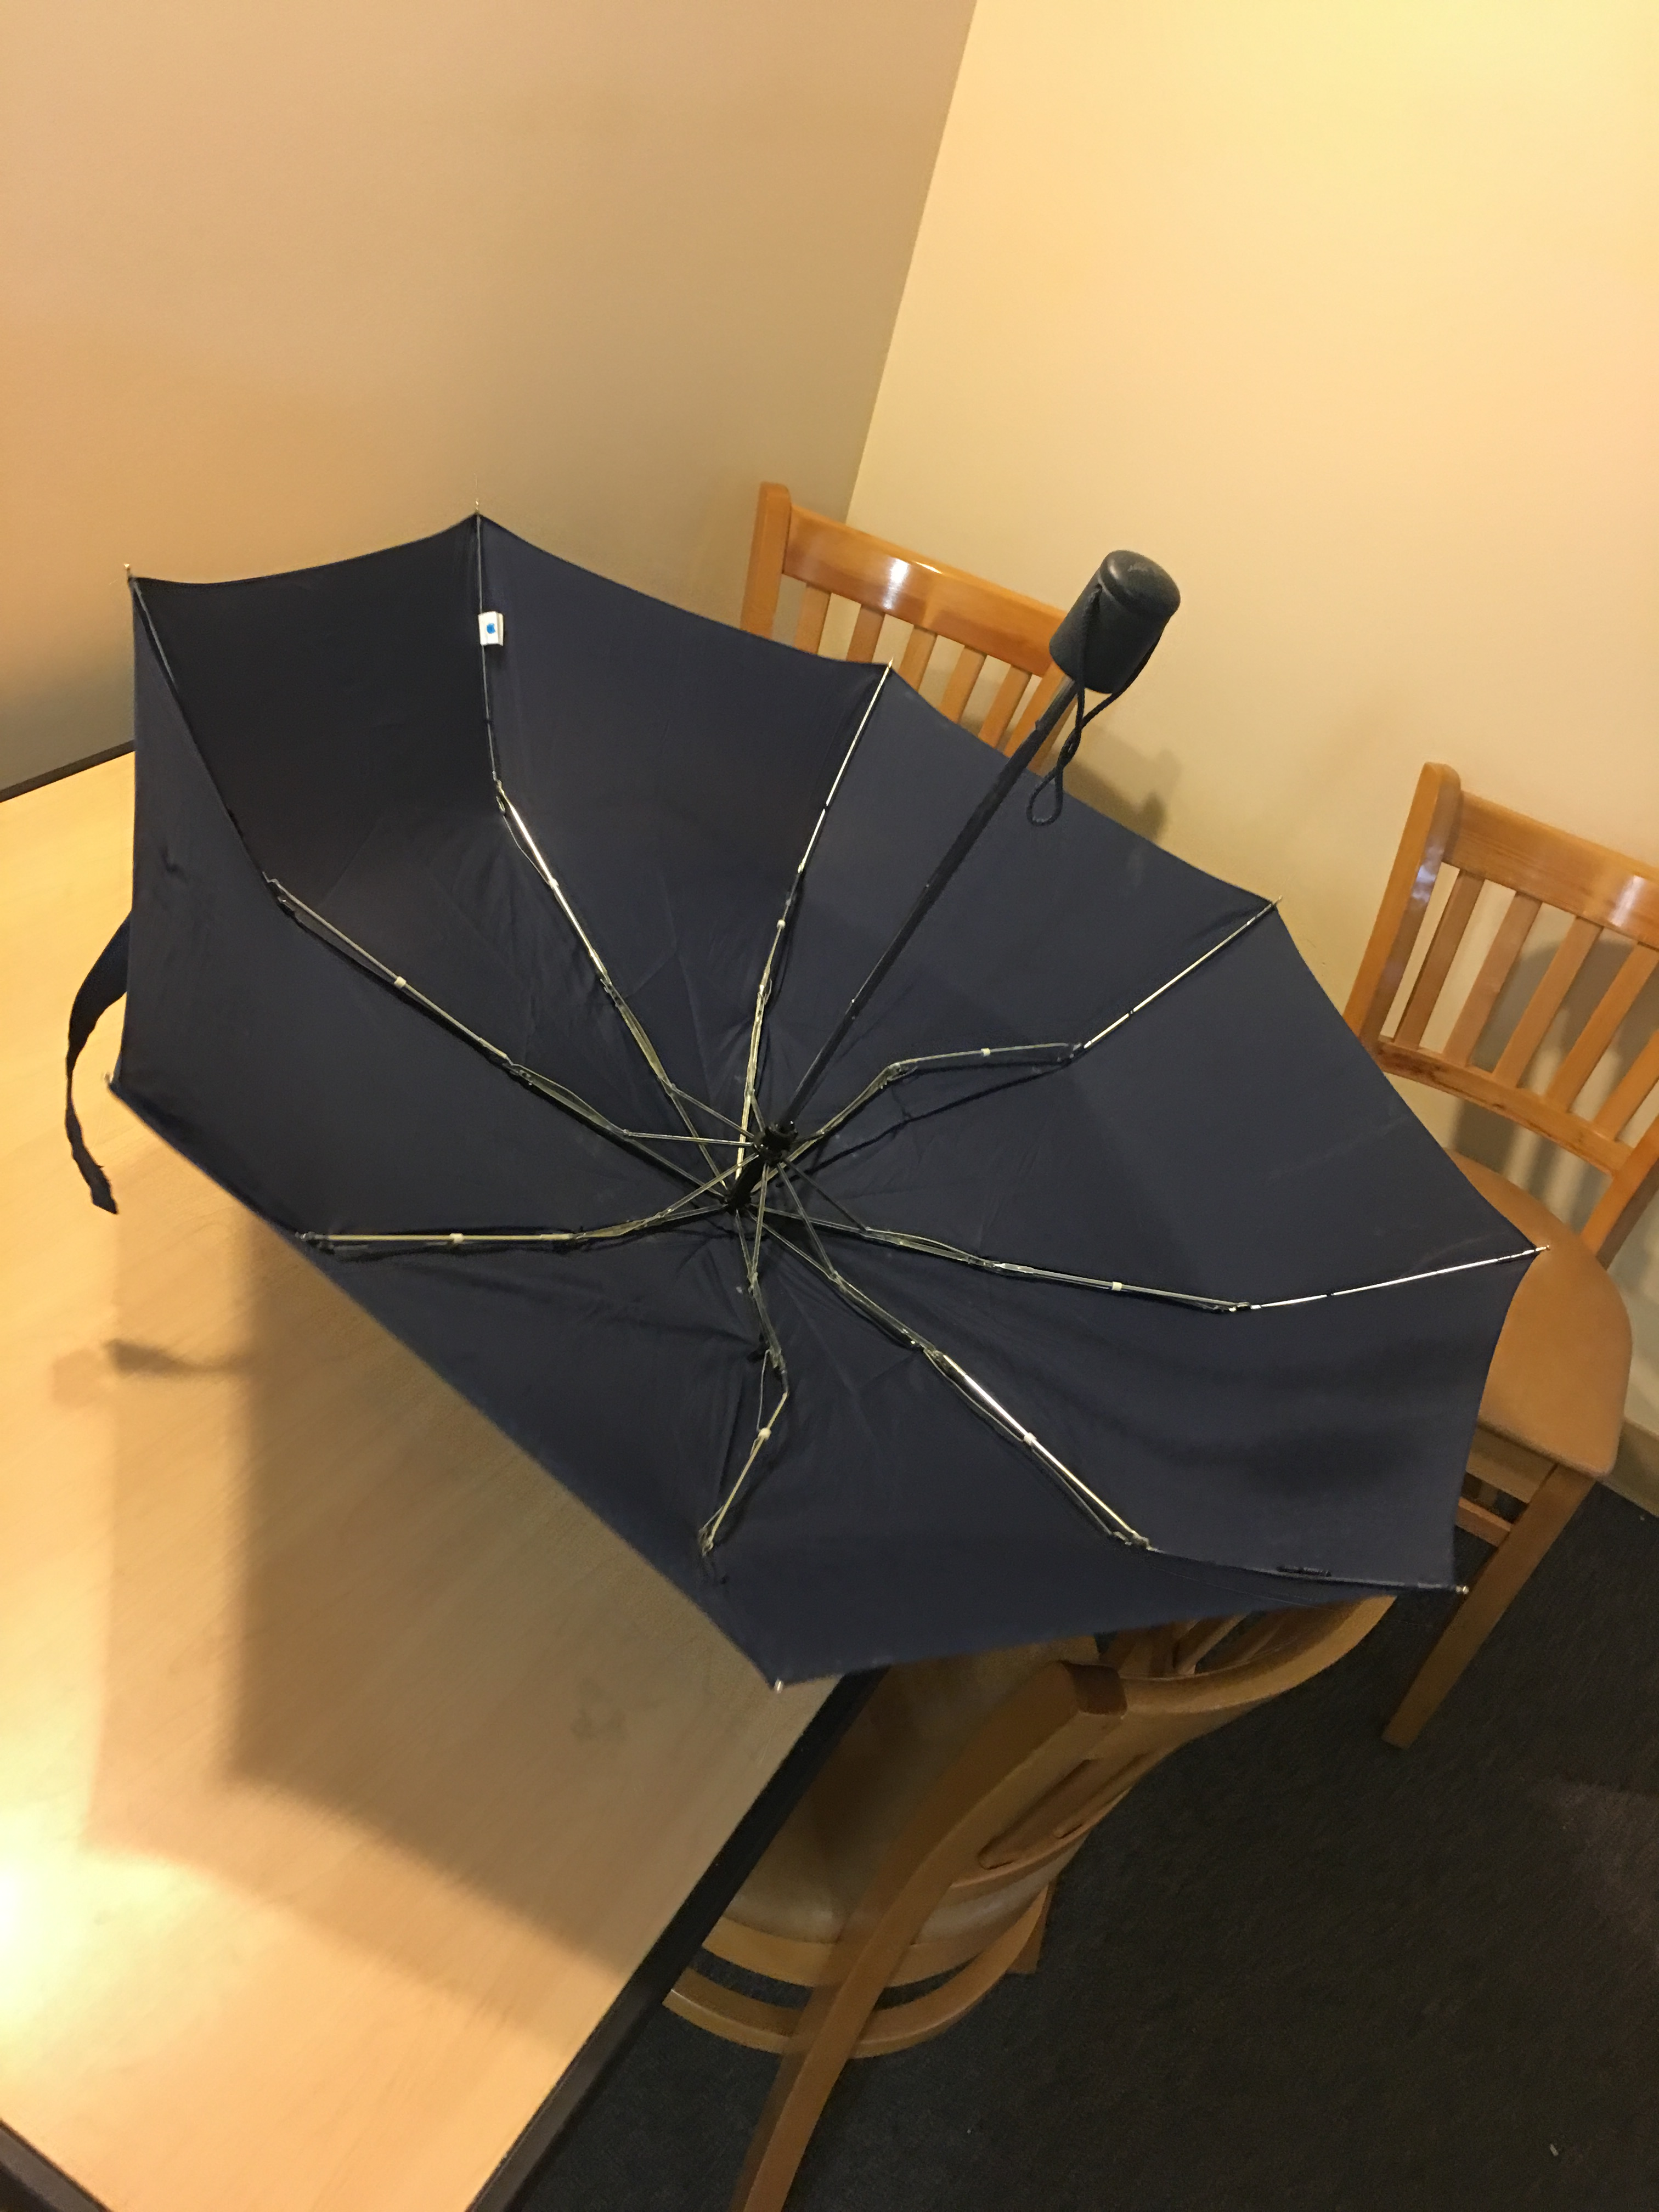Umbrella: (54, 523, 1549, 1698)
